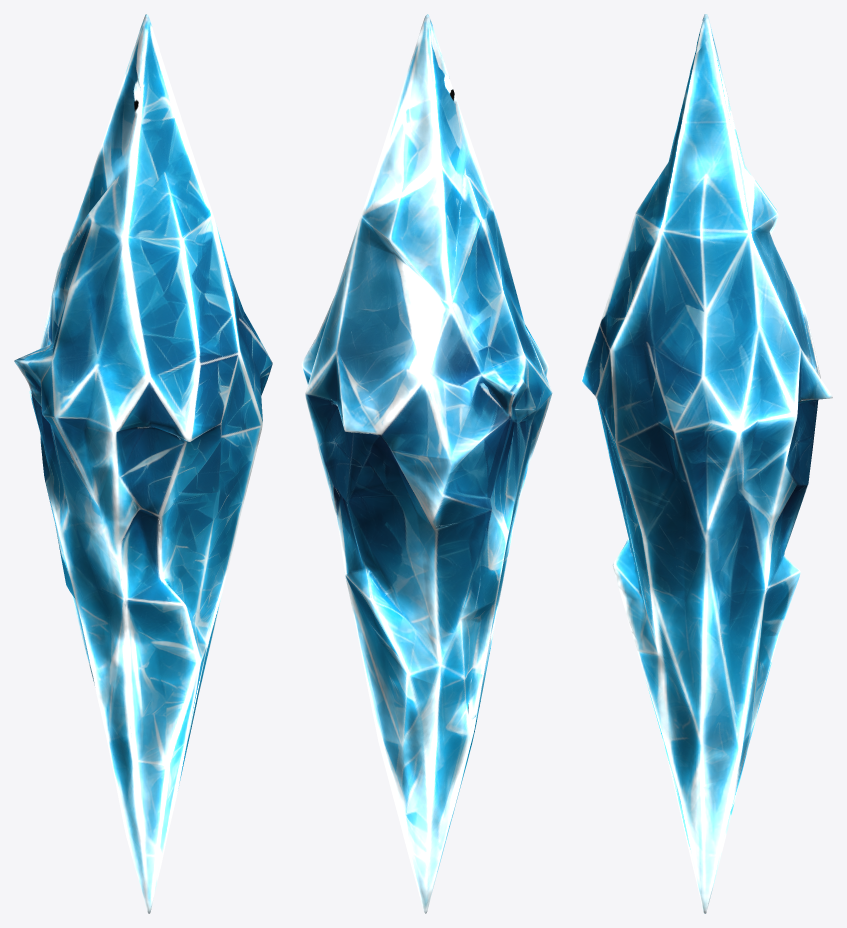
Rendered from Meshy_AI_Azure_Crystal_Prism_0624082707_texture.fbx.
3 renders of one model, left to right at view 1: azimuth 30°, elevation 25°; view 2: azimuth 150°, elevation 25°; view 3: azimuth 270°, elevation 25°, orthographic.
Visible parts, largest first — view 1: Mesh1.0; view 2: Mesh1.0; view 3: Mesh1.0.
Boxes of the visible parts, left/top/right/bottom form: Mesh1.0: left=14, top=14, right=272, bottom=913; Mesh1.0: left=301, top=14, right=552, bottom=913; Mesh1.0: left=581, top=14, right=832, bottom=913.
Size of the model in its own units: 49.04 by 191 by 48.5.
1 material, 1 textured.
